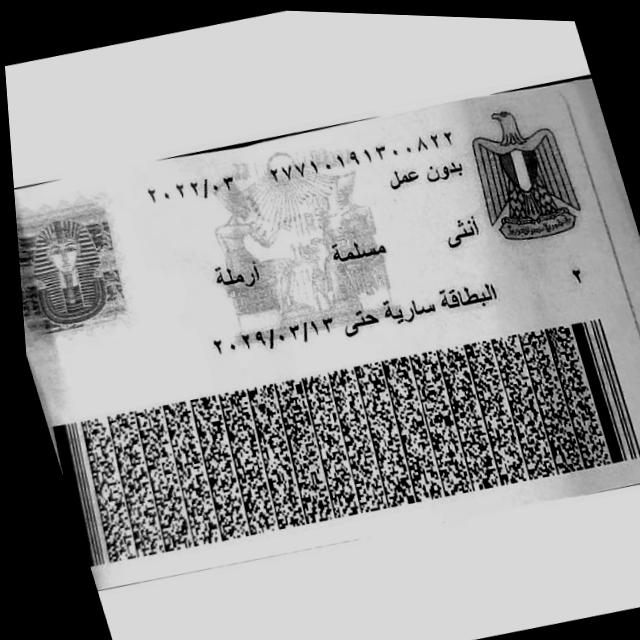id_card: (14, 89, 640, 586)
